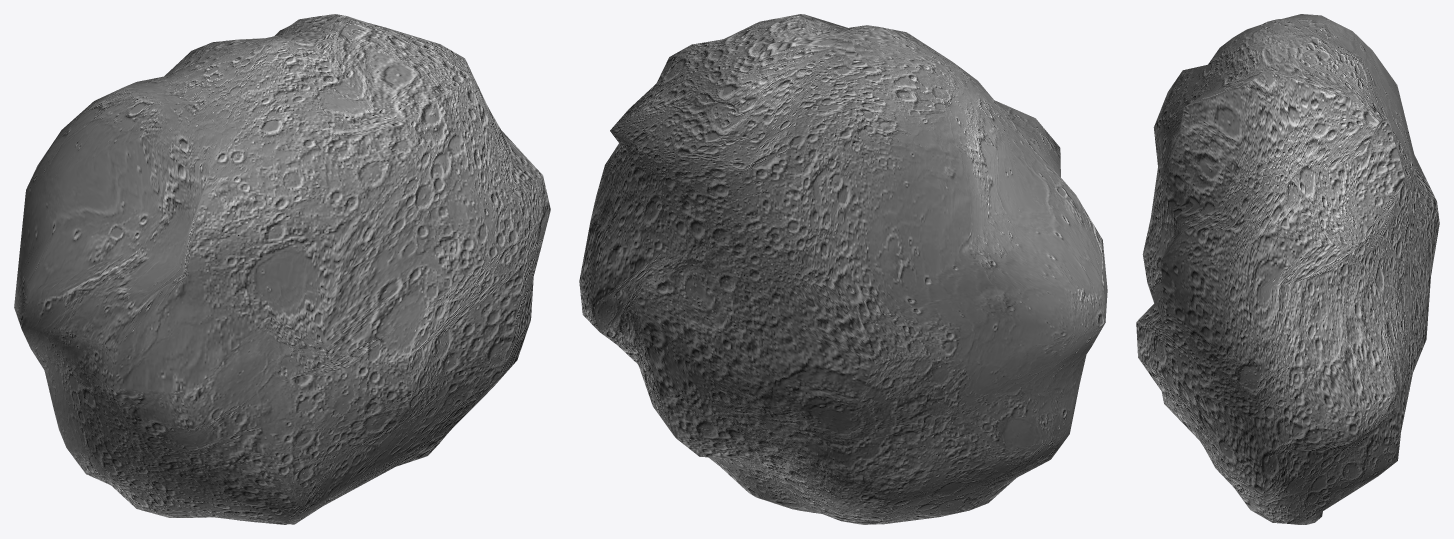
File: asteroid_B-1.fbx
The picture shows the model from 3 angles, left to right: view 1: azimuth 30°, elevation 25°; view 2: azimuth 150°, elevation 25°; view 3: azimuth 270°, elevation 25°; orthographic projection. The views are drawn at different scales.
Visible parts, largest first — view 1: asteroid_B_1; view 2: asteroid_B_1; view 3: asteroid_B_1.
Boxes of the visible parts, x1,y1,x2,y2 form: asteroid_B_1: [14, 14, 550, 524]; asteroid_B_1: [579, 14, 1107, 524]; asteroid_B_1: [1136, 14, 1439, 524].
Bounding box in the file's own units: 19.27 × 17.35 × 10.6.
